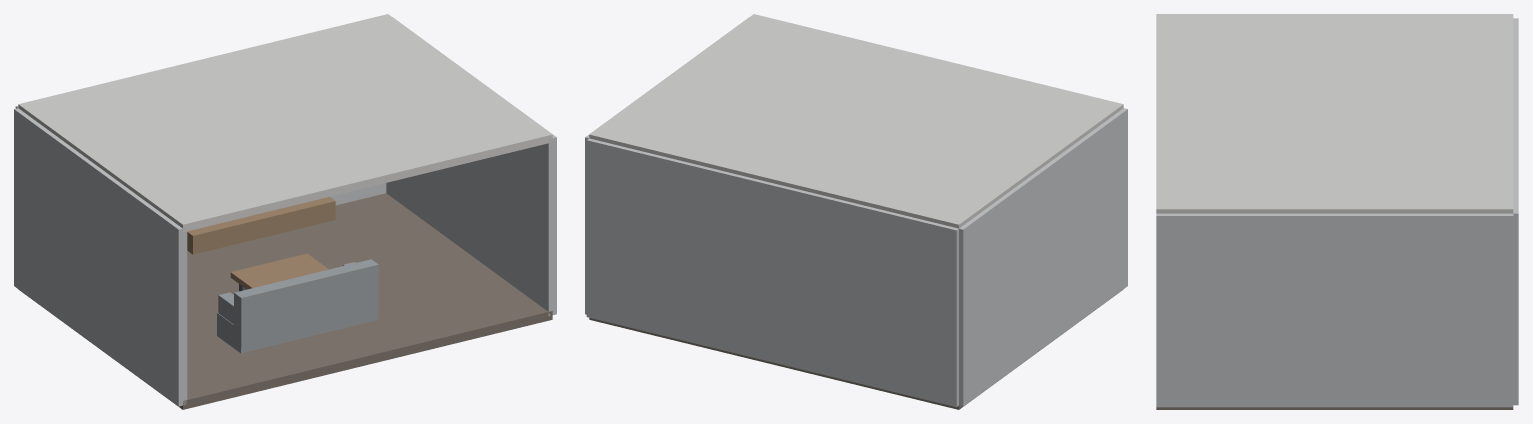
File: forro-rebaixado.glb
3 renders of one model, left to right at view 1: azimuth 30°, elevation 25°; view 2: azimuth 150°, elevation 25°; view 3: azimuth 270°, elevation 25°, orthographic. The views are drawn at different scales.
Visible parts, largest first — view 1: forro-rebaixado_001, forro-rebaixado_000, forro-rebaixado_003, forro-rebaixado_004, forro-rebaixado_006, forro-rebaixado_014, forro-rebaixado_009, forro-rebaixado_005, forro-rebaixado_002; view 2: forro-rebaixado_002, forro-rebaixado_001, forro-rebaixado_003, forro-rebaixado_000, forro-rebaixado_004; view 3: forro-rebaixado_001, forro-rebaixado_004, forro-rebaixado_002, forro-rebaixado_000.
Part boxes in pixels (<box>): forro-rebaixado_001: <box>18,14,552,232</box>; forro-rebaixado_000: <box>18,193,552,409</box>; forro-rebaixado_003: <box>14,108,187,406</box>; forro-rebaixado_004: <box>386,17,556,315</box>; forro-rebaixado_006: <box>234,259,378,348</box>; forro-rebaixado_014: <box>187,197,335,254</box>; forro-rebaixado_009: <box>230,253,328,289</box>; forro-rebaixado_005: <box>217,312,378,353</box>; forro-rebaixado_002: <box>15,106,386,205</box>; forro-rebaixado_002: <box>586,138,958,407</box>; forro-rebaixado_001: <box>589,14,1123,228</box>; forro-rebaixado_003: <box>959,108,1127,406</box>; forro-rebaixado_000: <box>589,289,1123,409</box>; forro-rebaixado_004: <box>585,17,749,314</box>; forro-rebaixado_001: <box>1156,14,1513,213</box>; forro-rebaixado_004: <box>1156,213,1513,407</box>; forro-rebaixado_002: <box>1513,18,1518,405</box>; forro-rebaixado_000: <box>1156,407,1513,409</box>.
Size of the model in its own units: 7.16 by 3.35 by 5.48.
